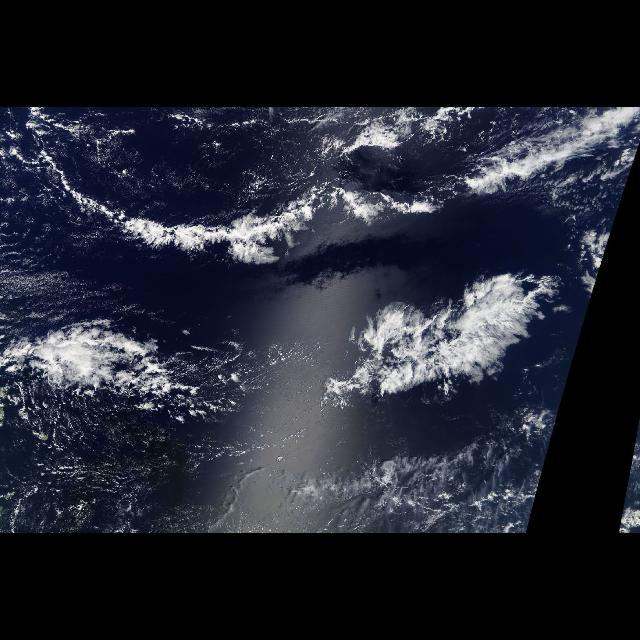Fish: (1, 113, 630, 467)
Gravel: (3, 378, 278, 532)
Sugar: (2, 270, 170, 332)
